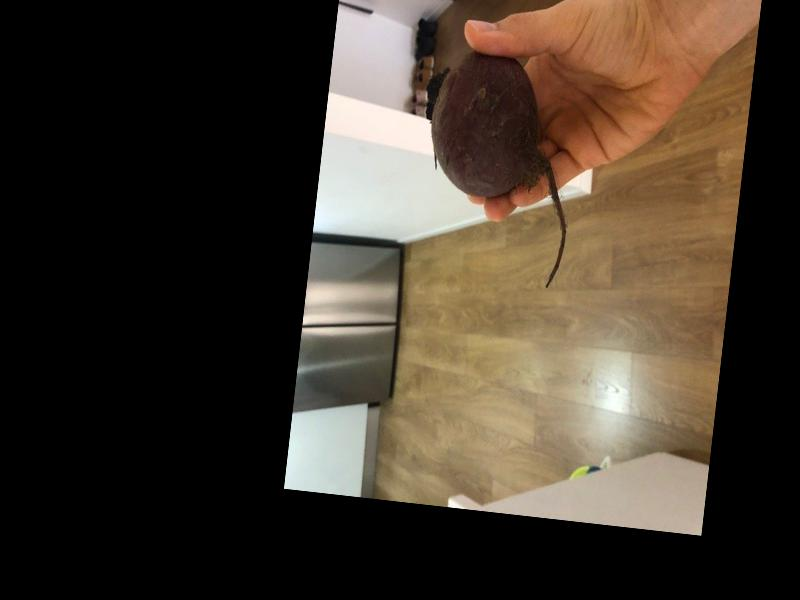Beet: (407, 47, 585, 289)
